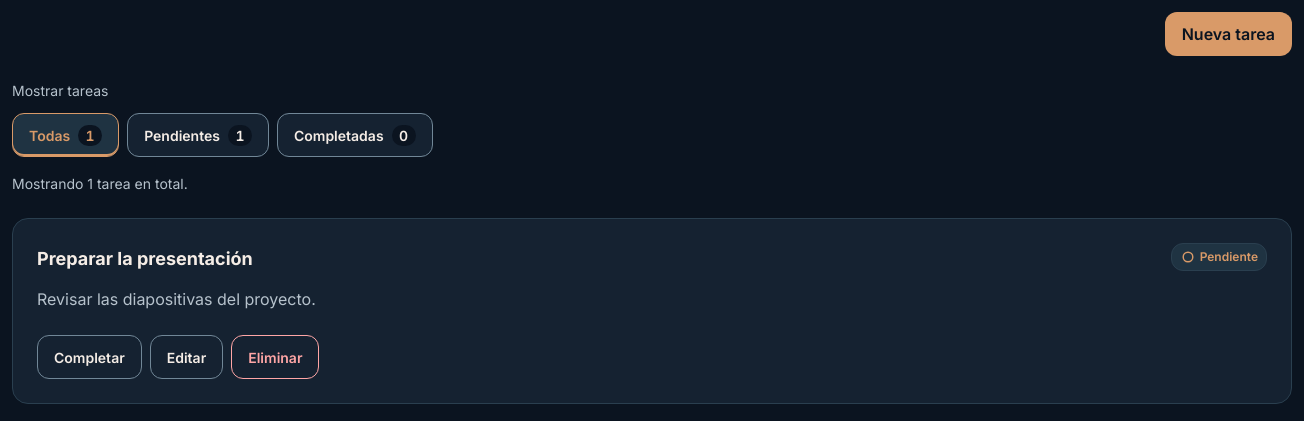
Test: Mis tareas: visualización sin escrituras › distingue un filtro sin resultados y permite volver a Todas
Click the button with aria-label "Completadas: 0 tareas": (355, 135) [277, 113, 432, 157]
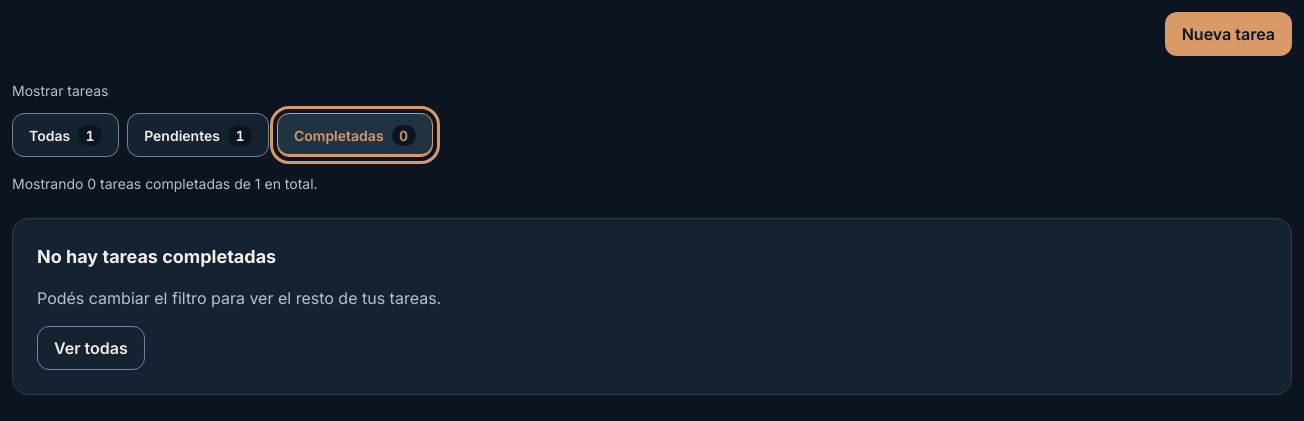
Expected: the heading "No hay tareas completadas" is shown, [37, 243, 276, 270]
Expected: the text "Todavía no tenés tareas" is gone
Click the button "Ver todas": (91, 348) [37, 326, 145, 370]
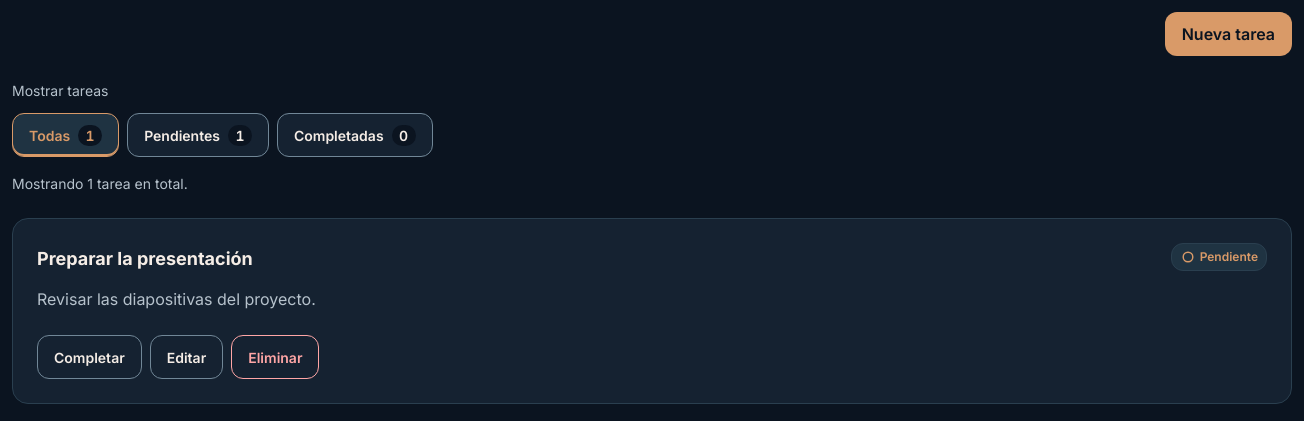
Expected: the button with aria-label "Todas: 1 tarea" is shown, [12, 113, 119, 157]
Expected: the heading "Preparar la presentación" is shown, [37, 246, 253, 271]
